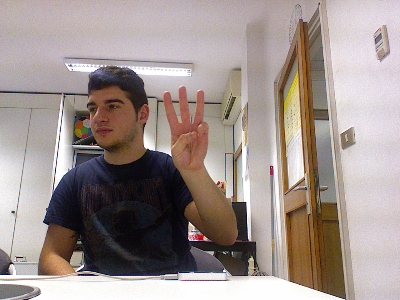三分: (160, 82, 210, 172)
